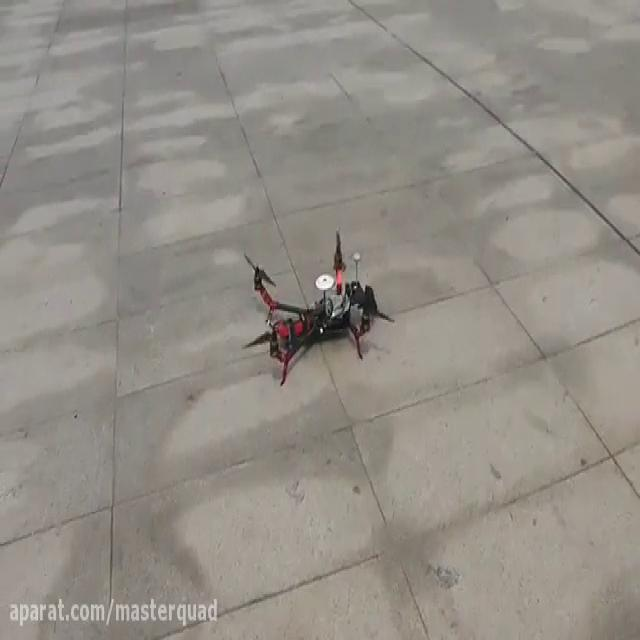drone: (237, 222, 397, 388)
